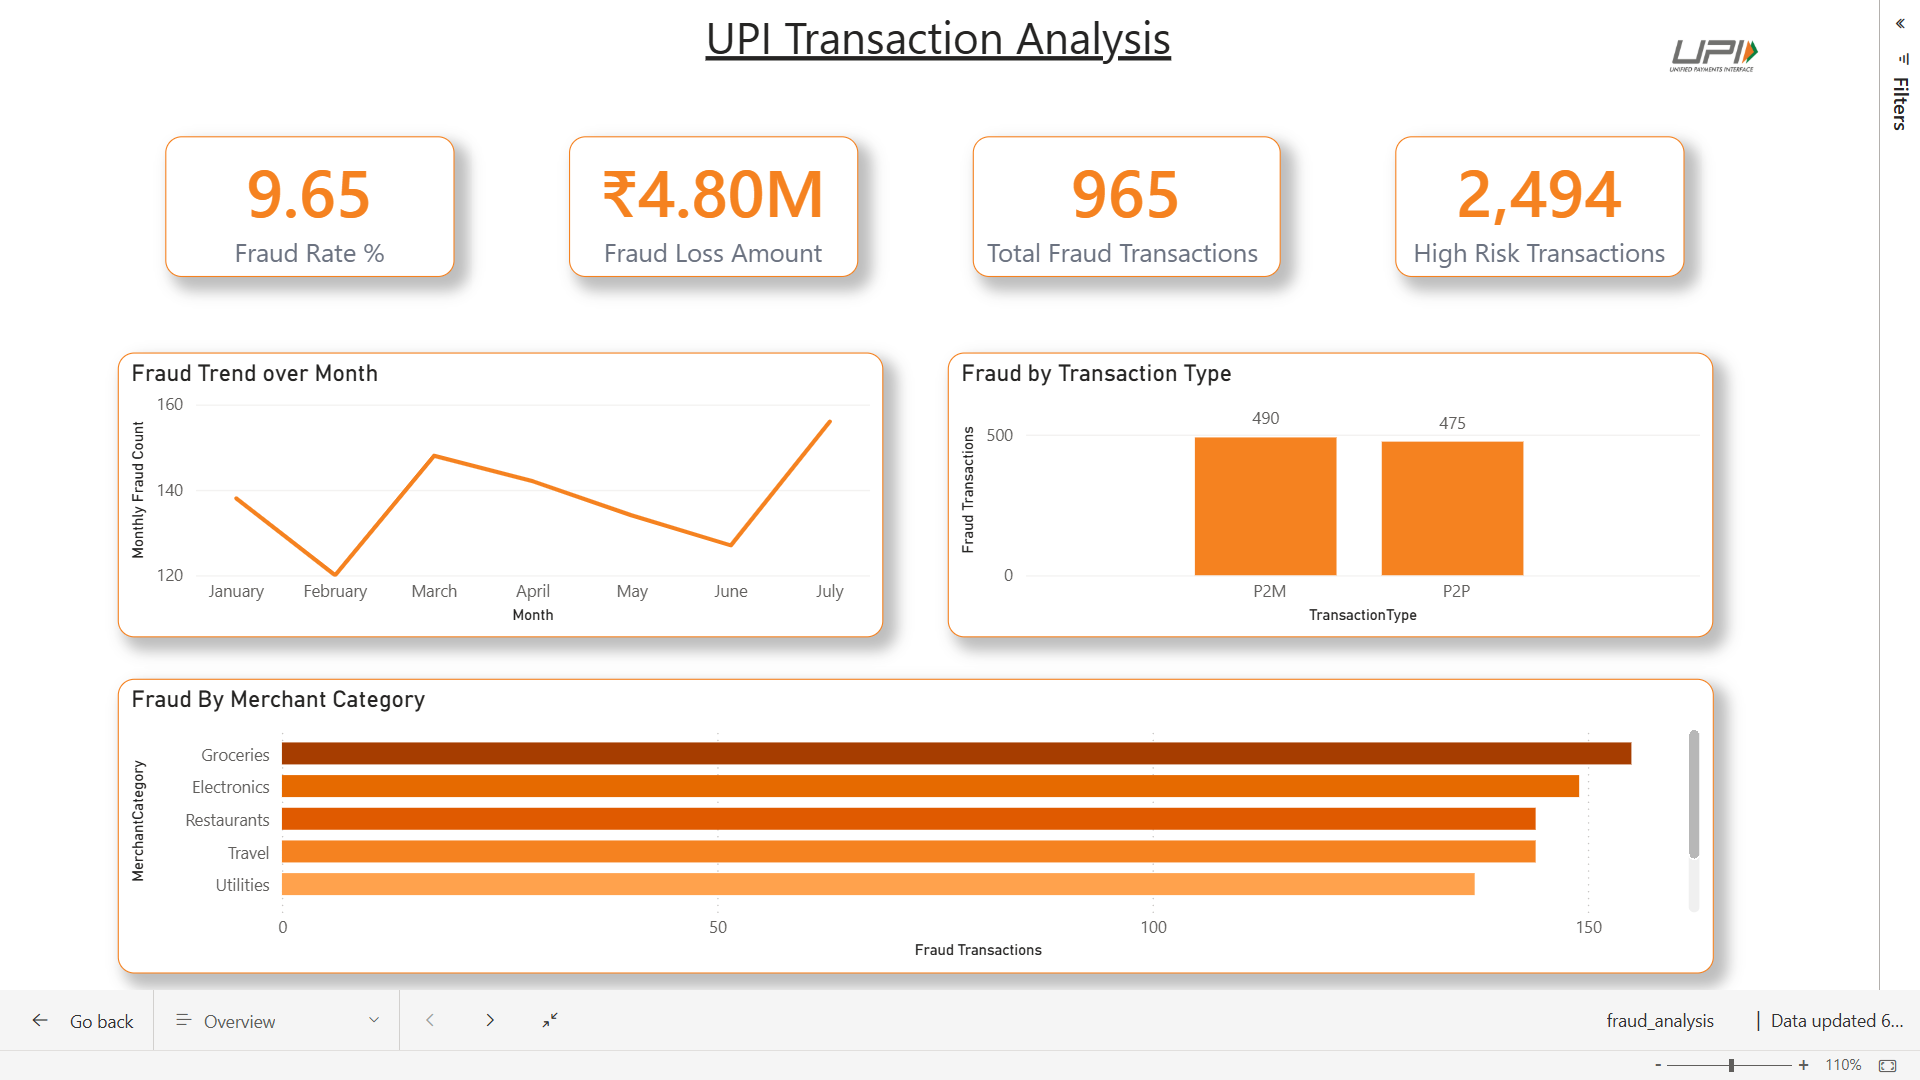

This screenshot's page, from the dashboard's own definition file:
{"tool":"powerbi","page":{"name":"Overview","canvas":[1280,720],"ordinal":0},"visuals":[{"type":"textbox","box":[454.1,0,371.9,68.6],"z":0},{"type":"card","fields":{"Values":["upi_fraud.fraud rate %"]},"box":[77,99,210.3,102.7],"z":1000},{"type":"image","box":[1127.5,0,152.9,81.9],"z":2000},{"type":"card","fields":{"Values":["upi_fraud.Fraud Loss Amount"]},"box":[370.9,99,210.3,102.7],"z":3000},{"type":"card","fields":{"Values":["upi_fraud.Fraud Transactions"]},"box":[664.8,99,223.8,102.7],"z":4000},{"type":"lineChart","title":"Fraud Trend over Month","fields":{"Category":["upi_fraud.Timestamp.Variation.Date Hierarchy.Month"],"Y":["upi_fraud.Monthly Fraud Count"]},"box":[42.5,256.6,557.1,207.2],"z":5000},{"type":"clusteredColumnChart","title":"Fraud by Transaction Type","fields":{"Y":["upi_fraud.Fraud Transactions"],"Category":["upi_fraud.TransactionType"]},"box":[646.3,256.6,557.1,207.2],"z":6000},{"type":"clusteredBarChart","title":"Fraud By Merchant Category","fields":{"Category":["upi_fraud.MerchantCategory"],"Y":["upi_fraud.Fraud Transactions"]},"box":[42.5,494,1160.9,214.1],"z":7000},{"type":"card","fields":{"Values":["Risk Indicators.High Risk Transactions"]},"box":[972.2,99,210.3,102.7],"z":8000}]}

Visuals, with their boxes on the page's 1280x720 design canvas (x1, y1, x2, y2). These are canvas units, not pixel positions in the 1920x1080 screenshot, which may show the page scaled, cropped or inside an application window:
textbox: Rect(454, 0, 826, 69)
card - upi_fraud.fraud rate %: Rect(77, 99, 287, 202)
image: Rect(1128, 0, 1280, 82)
card - upi_fraud.Fraud Loss Amount: Rect(371, 99, 581, 202)
card - upi_fraud.Fraud Transactions: Rect(665, 99, 889, 202)
"Fraud Trend over Month" lineChart: Rect(42, 257, 600, 464)
"Fraud by Transaction Type" clusteredColumnChart: Rect(646, 257, 1203, 464)
"Fraud By Merchant Category" clusteredBarChart: Rect(42, 494, 1203, 708)
card - Risk Indicators.High Risk Transactions: Rect(972, 99, 1182, 202)
